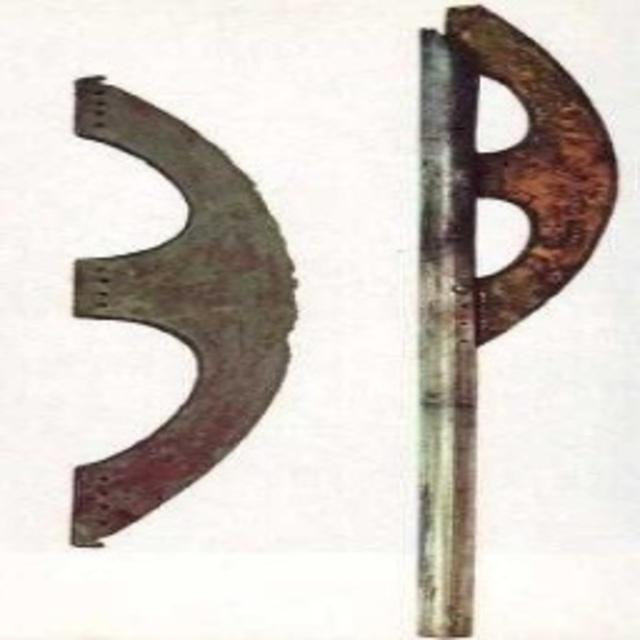ax: (408, 0, 628, 640), (61, 67, 304, 561)
